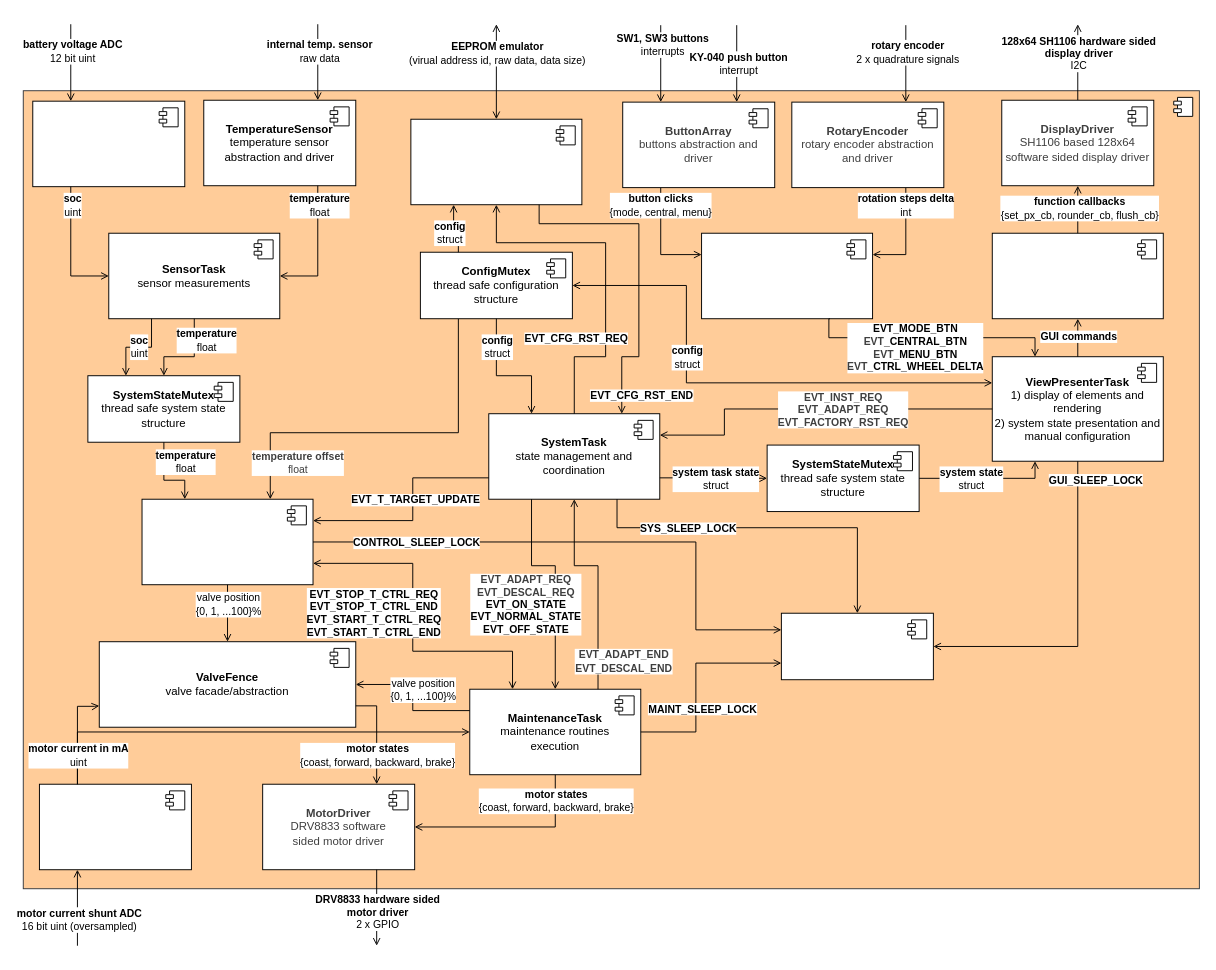
Some shapes in this 1216 by 970 pixel diagram are drawn without their labels. The shapes that lost their labels are listed below. From the top down, each one's box as (x1, y1, x2, y2) in pixels, then its label:
(32, 100, 185, 187): SoCSensor battery voltage ADC driver and SoC calculation
(410, 118, 582, 205): StorageTask non-volative memory management
(701, 232, 873, 319): InputTask user input related hardware signals interpretation
(991, 232, 1163, 319): LV LVGL graphical user interface library
(141, 498, 313, 585): ControlTask task for temperature controller (mocked in the prototype)
(780, 612, 933, 680): SleepLock thread safe sleep lock using (FreeRTOS) pre sleep processing
(38, 783, 191, 870): MotorCurrentSensor motor current ADC driver and calculation
